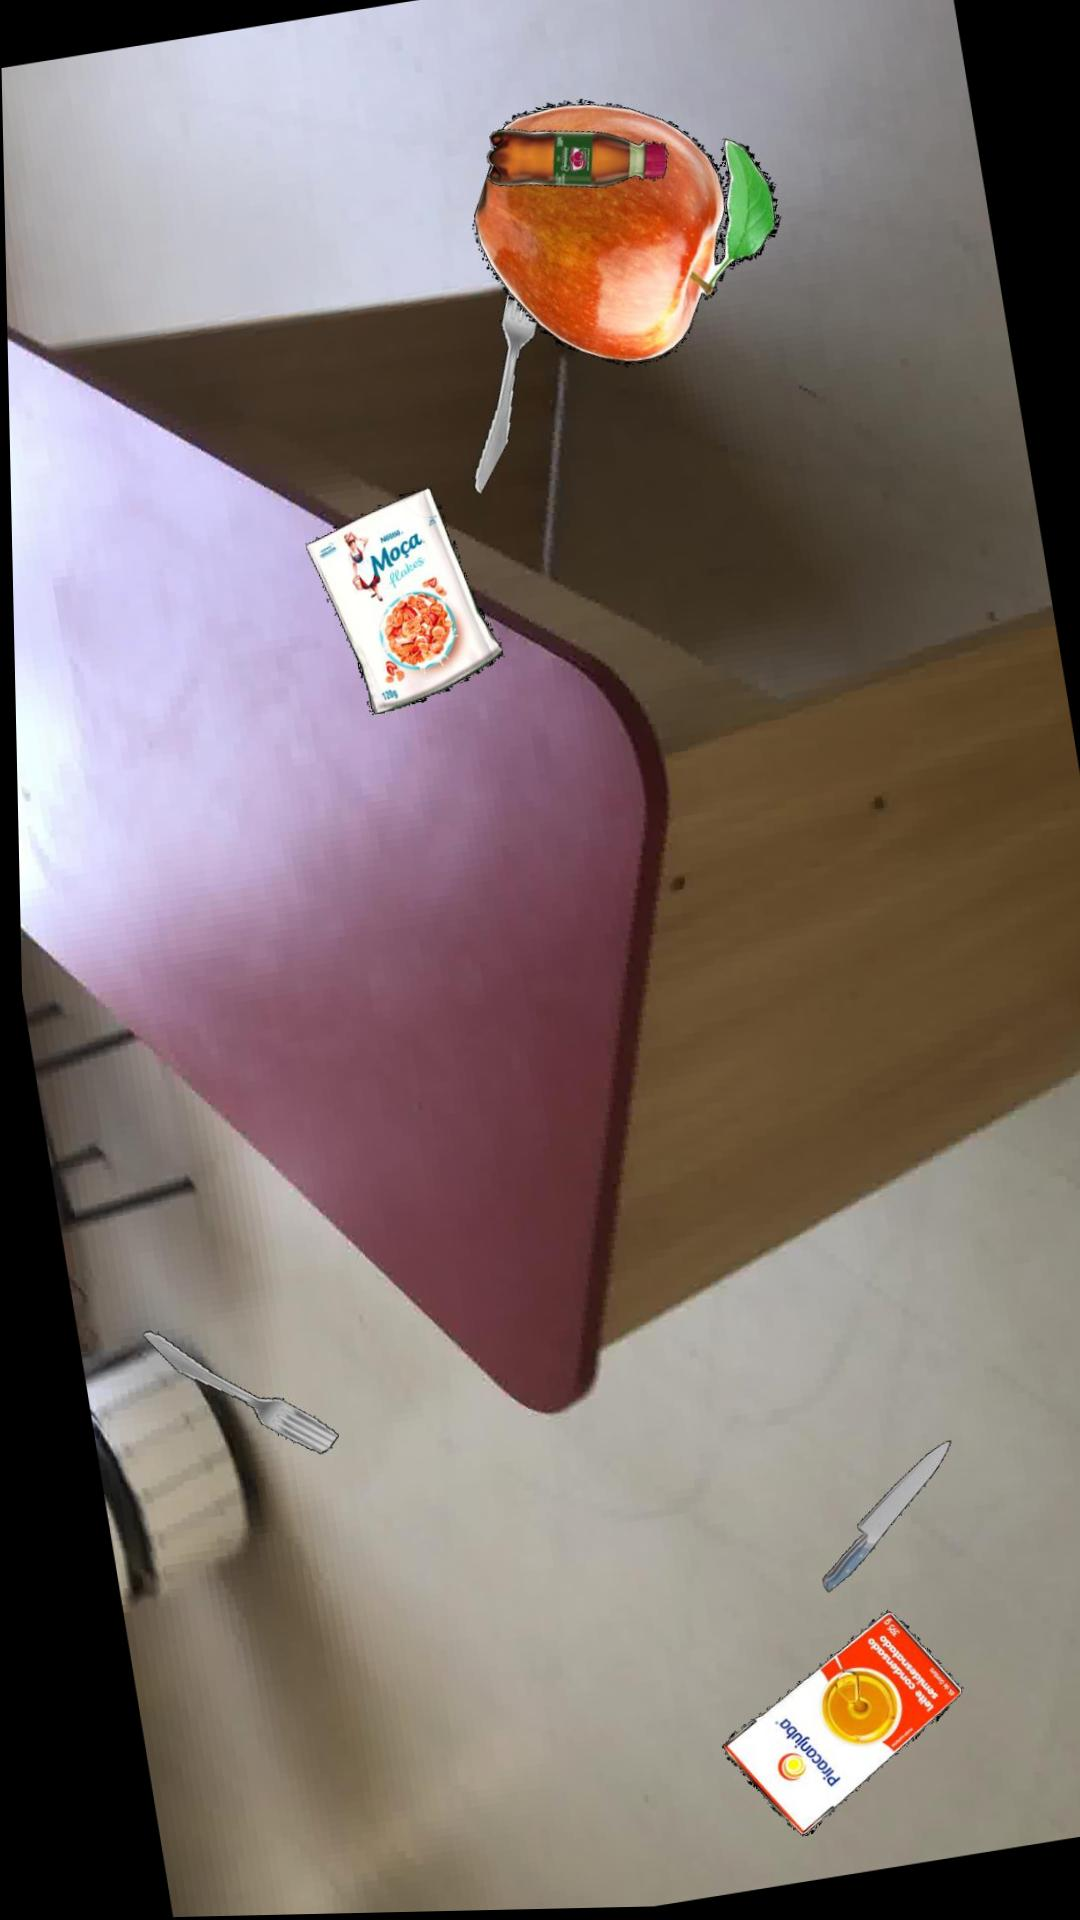apple: (473, 99, 778, 365)
corn flakes: (303, 487, 500, 713)
fork: (137, 1328, 332, 1452), (472, 293, 535, 493)
guarana: (487, 128, 667, 187)
knife: (815, 1443, 944, 1593)
